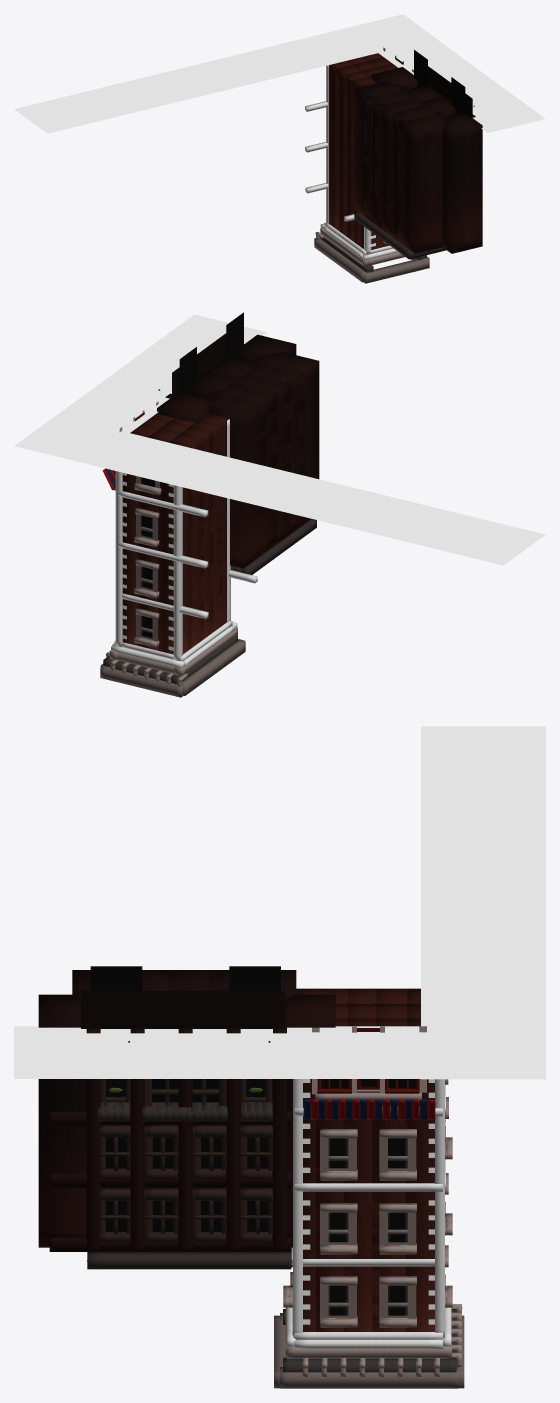
File: street.fbx
3 views of the same model, one above another, from view 1: azimuth 30°, elevation 25°; view 2: azimuth 150°, elevation 25°; view 3: azimuth 270°, elevation 25° (orthographic). The views are drawn at different scales.
Visible parts, largest first — view 1: Road.001, Build2, Build2line, Build1color, Building1window, Building1Line; view 2: Road.001, Build2, Build1color, Building1Line, Building1window, Build2line; view 3: Road.001, Build2line, Building1window, Build1color, Building1Line, Windoww, Build2.
Part boxes in pixels (bbox=[...]): Road.001: bbox=[14, 14, 545, 133]; Build2: bbox=[355, 50, 465, 253]; Build2line: bbox=[354, 66, 482, 259]; Build1color: bbox=[329, 53, 397, 249]; Building1window: bbox=[314, 47, 429, 283]; Building1Line: bbox=[305, 65, 398, 260]; Road.001: bbox=[14, 314, 545, 565]; Build2: bbox=[179, 312, 319, 568]; Build1color: bbox=[122, 413, 228, 654]; Building1Line: bbox=[111, 419, 257, 668]; Building1window: bbox=[100, 401, 245, 697]; Build2line: bbox=[157, 333, 316, 574]; Road.001: bbox=[14, 726, 545, 1079]; Build2line: bbox=[38, 991, 335, 1269]; Building1window: bbox=[274, 1026, 464, 1388]; Build1color: bbox=[296, 988, 434, 1331]; Building1Line: bbox=[287, 1079, 451, 1348]; Windoww: bbox=[106, 1079, 435, 1119]; Build2: bbox=[72, 966, 296, 998].
Bounding box in the file's own units: 0.00415 × 0.00225 × 0.00265.
